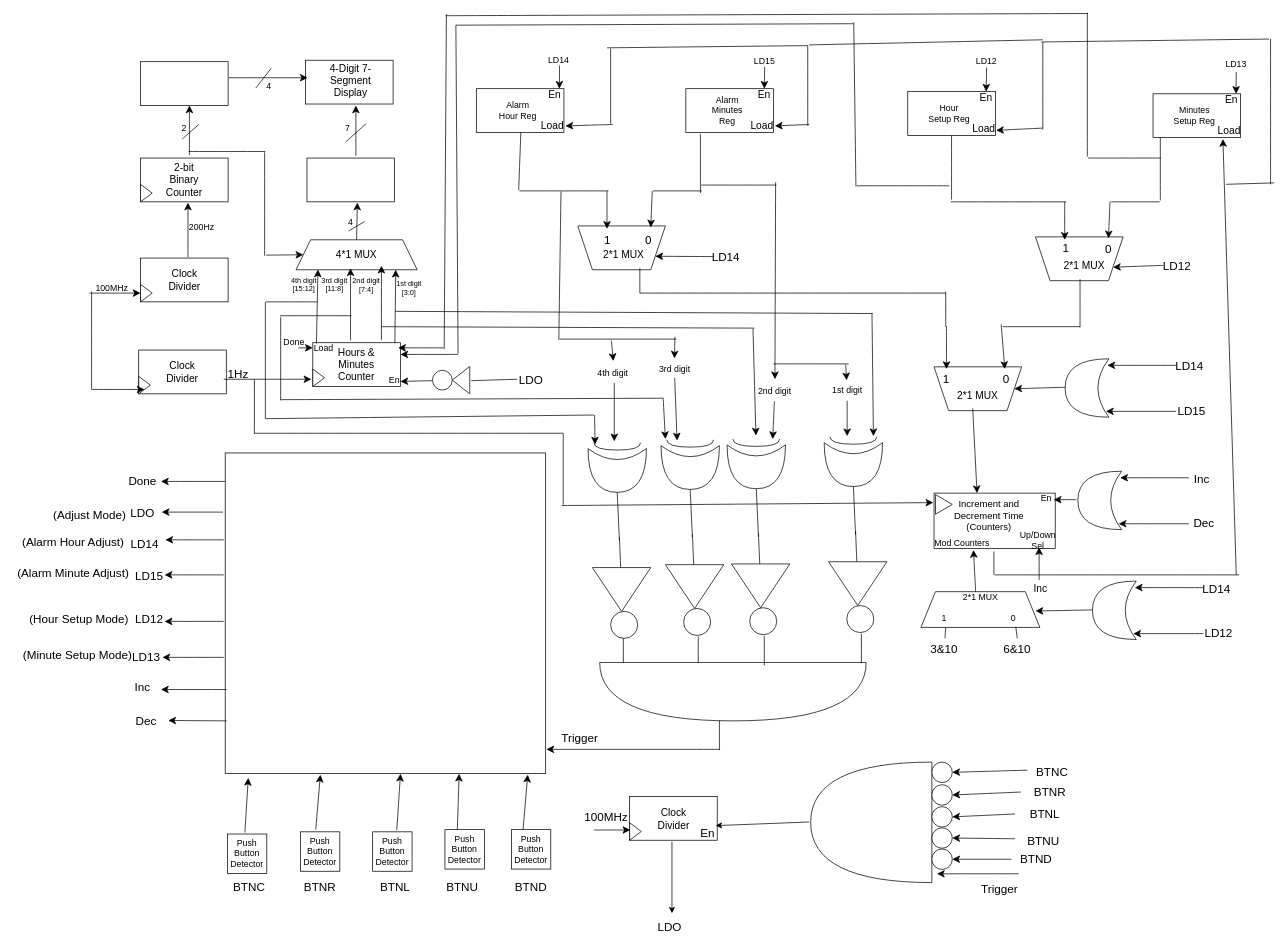
The diagram is 1287 pixels wide and 950 high, and some of its shapes have lost their labels. Each missing label, with the centre of its shape:
2*4 Binary Decoder: the point at 184,83
Binary to 7-Segment: the point at 350,179
Control Unit: the point at 385,612
